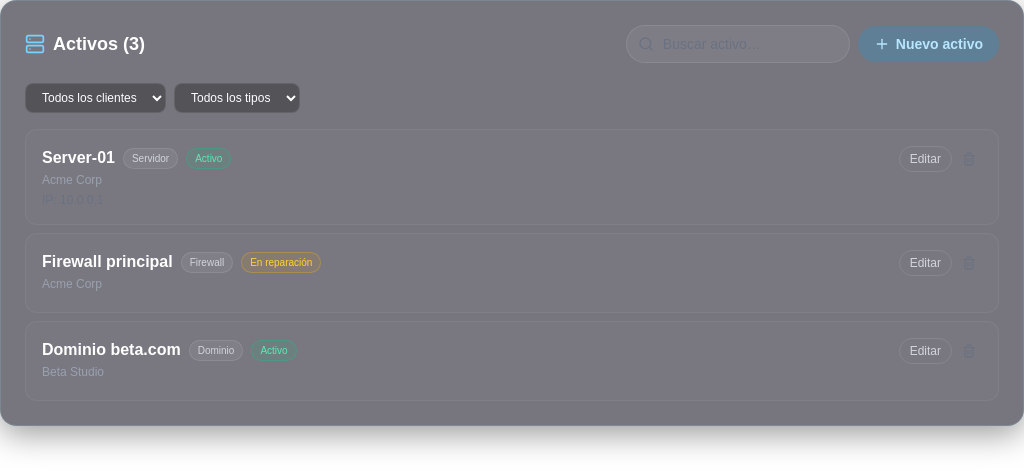
it: AssetsSection › filters by client
First combobox in the filter bar is the client filter.
Select "Beta Studio" in the 1st dropdown showing "Todos los clientes" at (96, 98), box [25, 83, 166, 113]
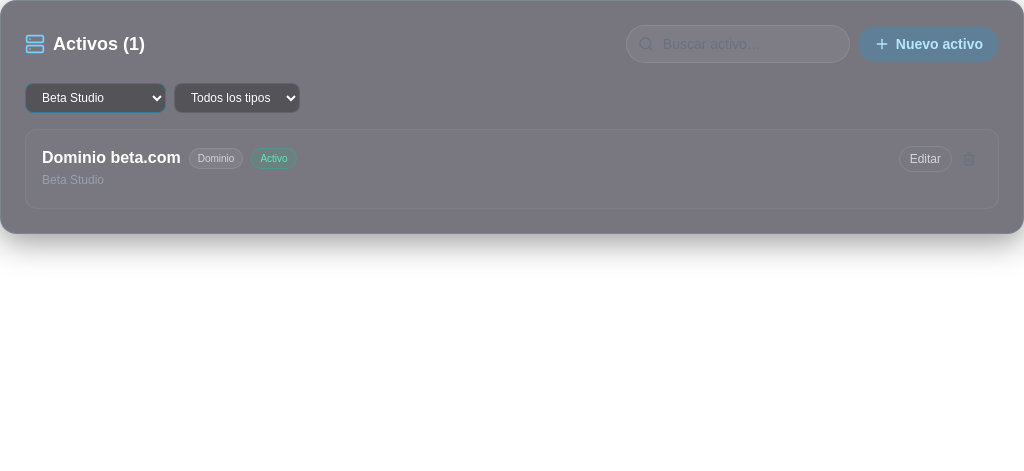
Check: the text "Dominio beta.com" is shown, box [42, 146, 181, 170]
Check: the text "Server-01" is gone
